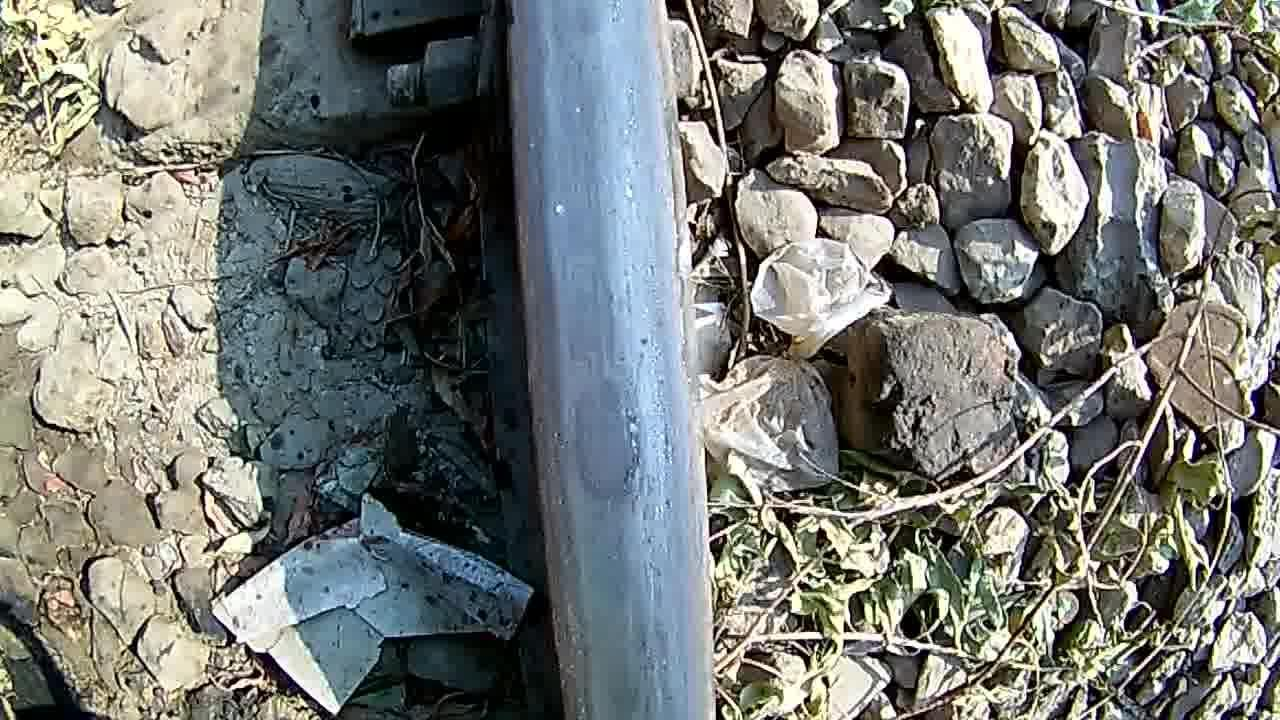crack: (534, 1, 657, 720)
